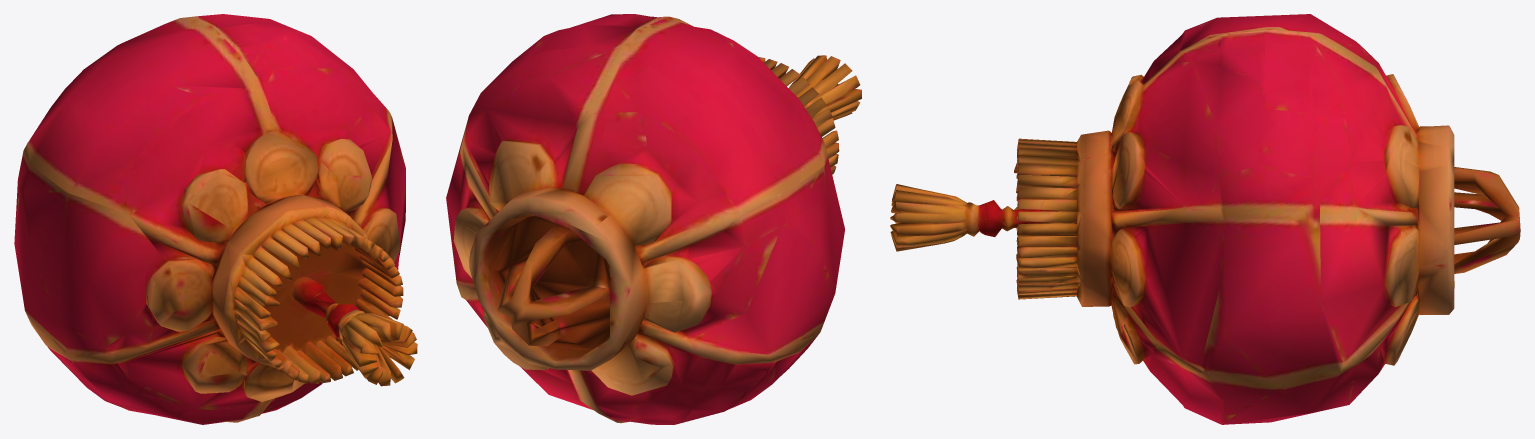
The picture shows the model from 3 angles, left to right: view 1: azimuth 30°, elevation 25°; view 2: azimuth 150°, elevation 25°; view 3: azimuth 270°, elevation 25°; orthographic projection.
Visible parts, largest first — view 1: material; view 2: material; view 3: material.
Part boxes in pixels (bbox=[...]): material: bbox=[14, 14, 417, 424]; material: bbox=[446, 14, 861, 424]; material: bbox=[890, 14, 1520, 424].
Size of the model in its own units: 0.6518 by 0.6711 by 1.
Materials: 1 (1 with a texture image).
